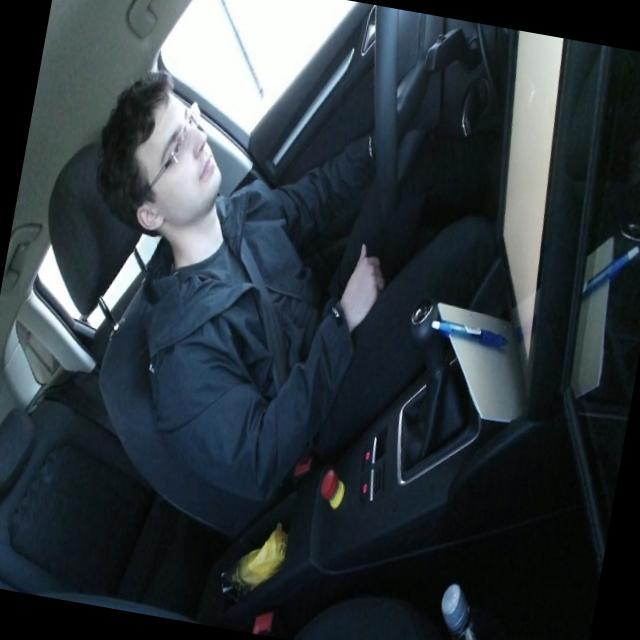pen: (428, 315, 509, 349)
